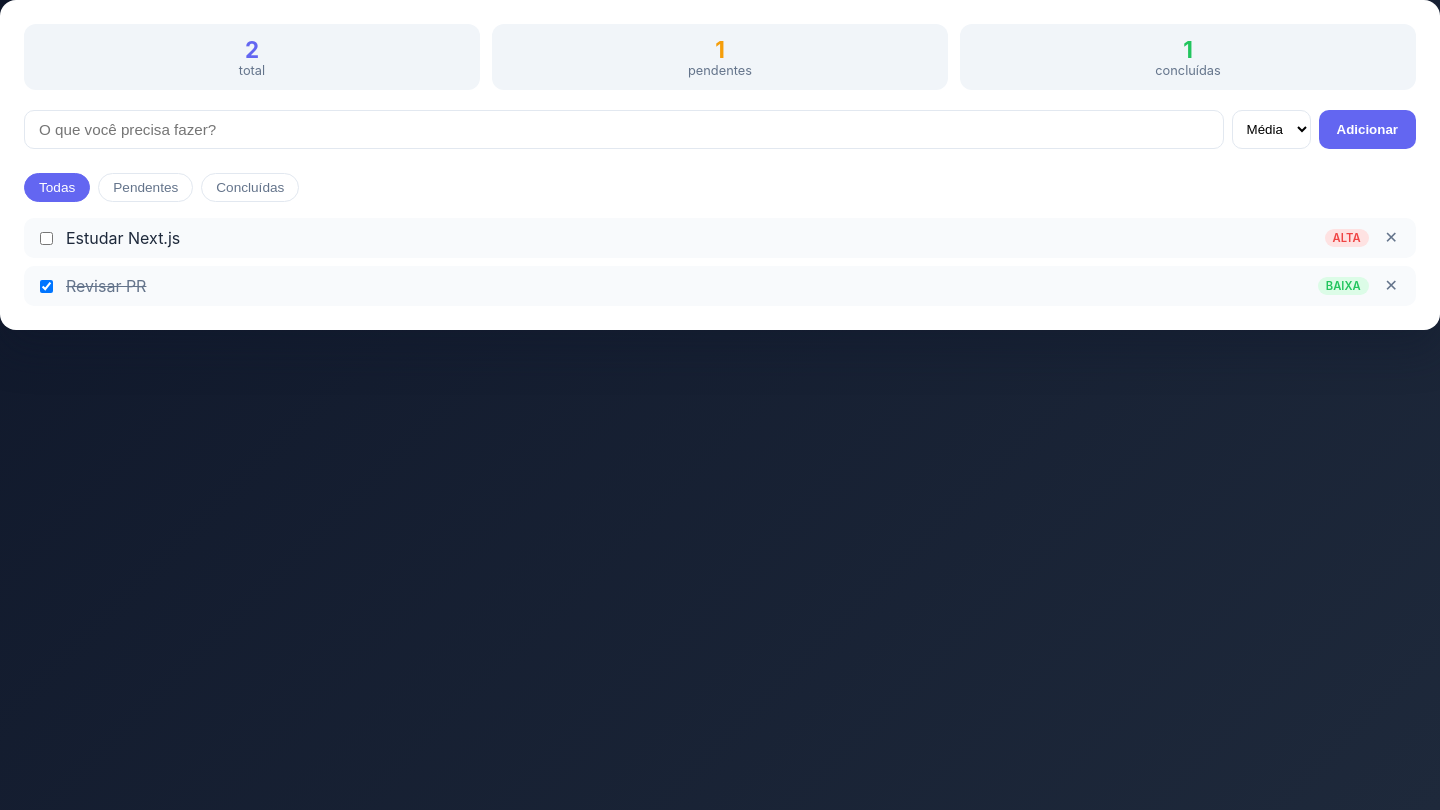
Test: ListaTarefas › marca e desmarca uma tarefa como concluída
Click the checkbox named "Marcar \"Estudar Next.js\" como concluída".
click(46, 238)  # box [40, 232, 53, 244]
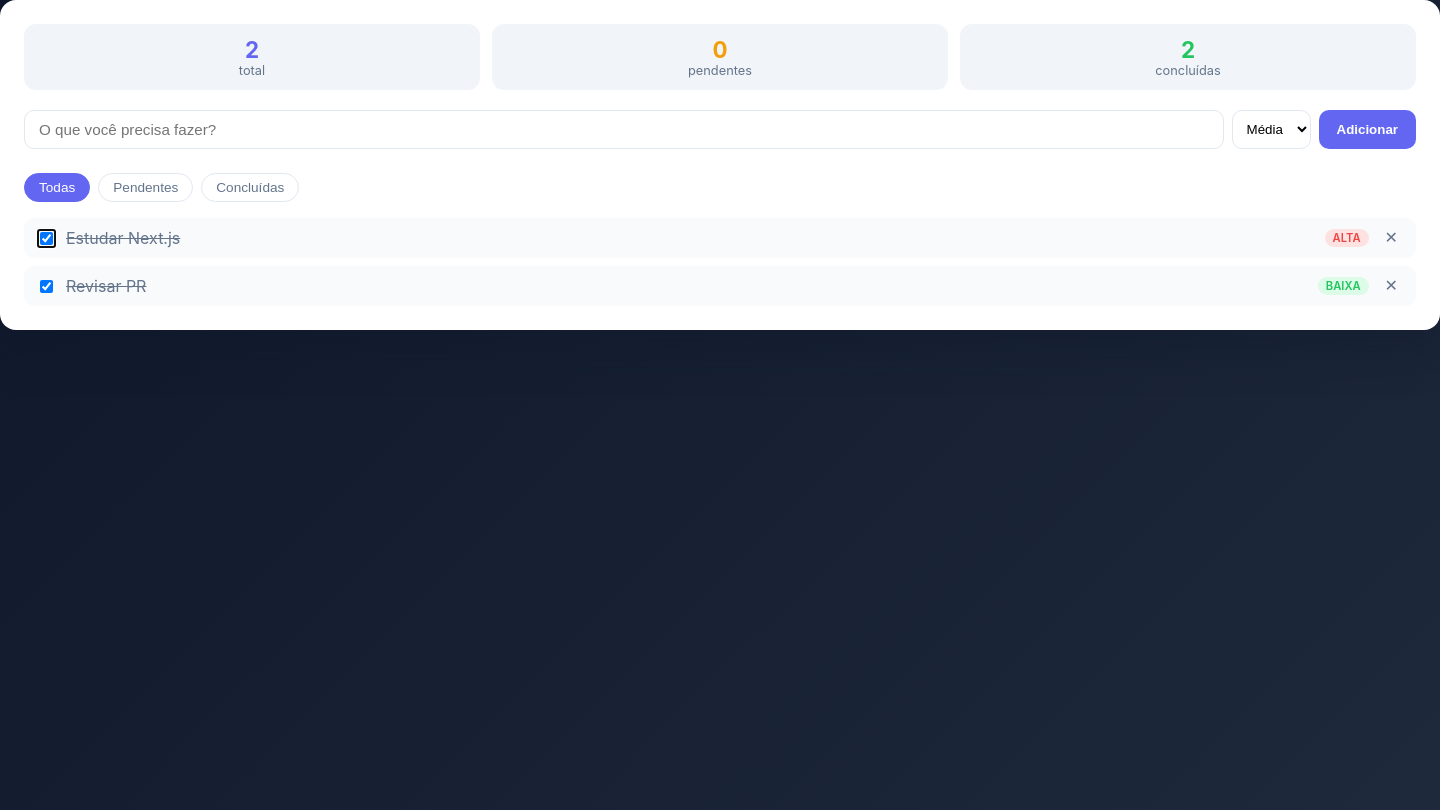
Check: the element with test id "stat-concluidas" shows "2", box [1181, 36, 1195, 63]
Click the checkbox named "Marcar \"Estudar Next.js\" como concluída".
click(46, 238)  # box [40, 232, 53, 244]
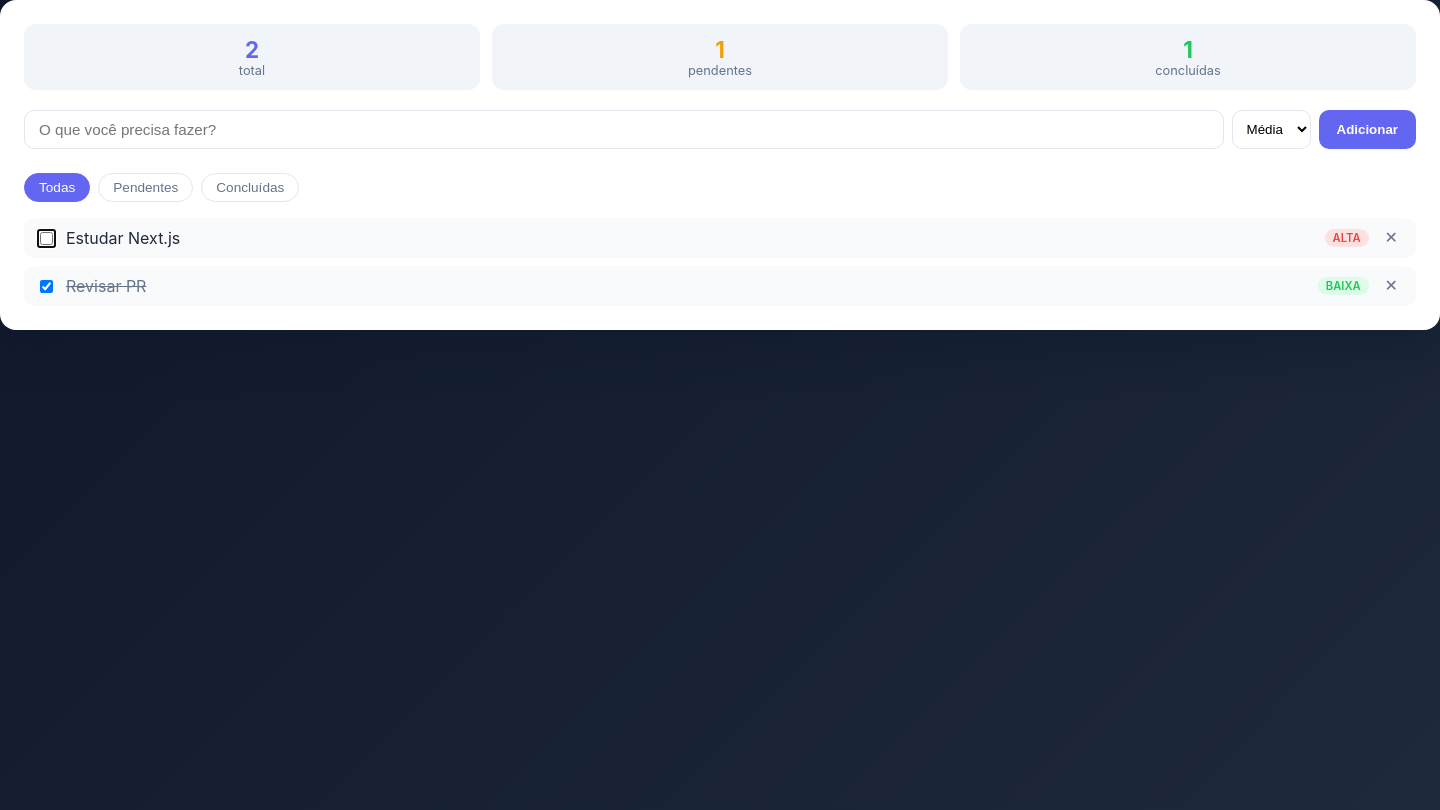
Check: the element with test id "stat-concluidas" shows "1", box [1183, 36, 1193, 63]
